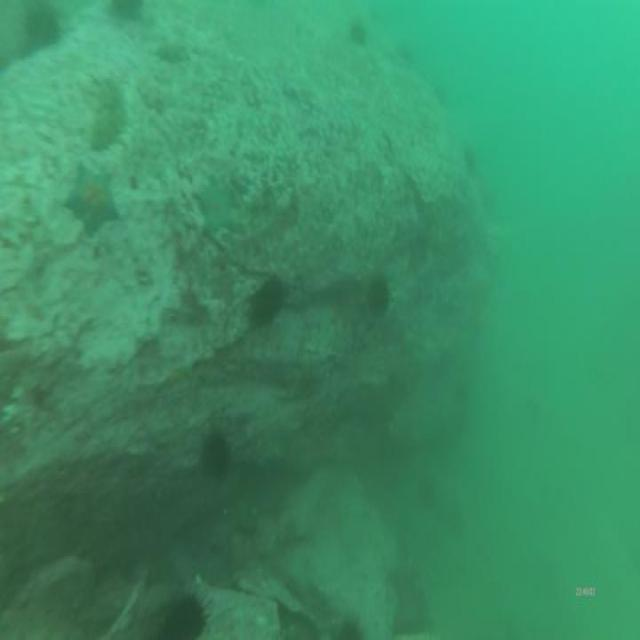echinus: (195, 421, 237, 488), (160, 588, 212, 640), (248, 265, 285, 335), (23, 0, 62, 55), (363, 267, 391, 327), (414, 466, 440, 514), (346, 11, 369, 52), (110, 0, 145, 25), (462, 141, 478, 180)
starfish: (61, 155, 122, 242), (192, 169, 240, 242)
